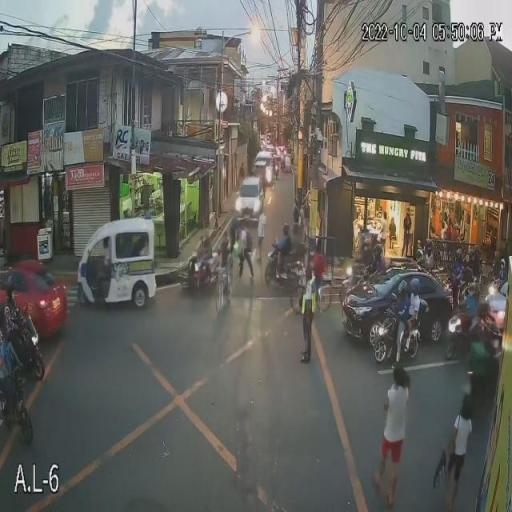helmet: (360, 233, 374, 256), (470, 248, 486, 265), (274, 218, 289, 236), (453, 246, 466, 262), (288, 223, 304, 235), (422, 236, 434, 252), (372, 244, 384, 260), (396, 280, 410, 293), (409, 278, 422, 290), (477, 278, 490, 290)
motorcycle: (368, 299, 424, 366), (1, 306, 45, 387), (445, 292, 500, 350), (0, 350, 31, 442), (180, 244, 221, 299), (263, 242, 307, 292), (446, 252, 476, 292), (414, 241, 446, 274)
rider: (390, 280, 422, 370), (0, 302, 25, 368), (190, 232, 216, 279), (459, 277, 481, 329), (360, 231, 386, 275), (272, 223, 294, 274)
